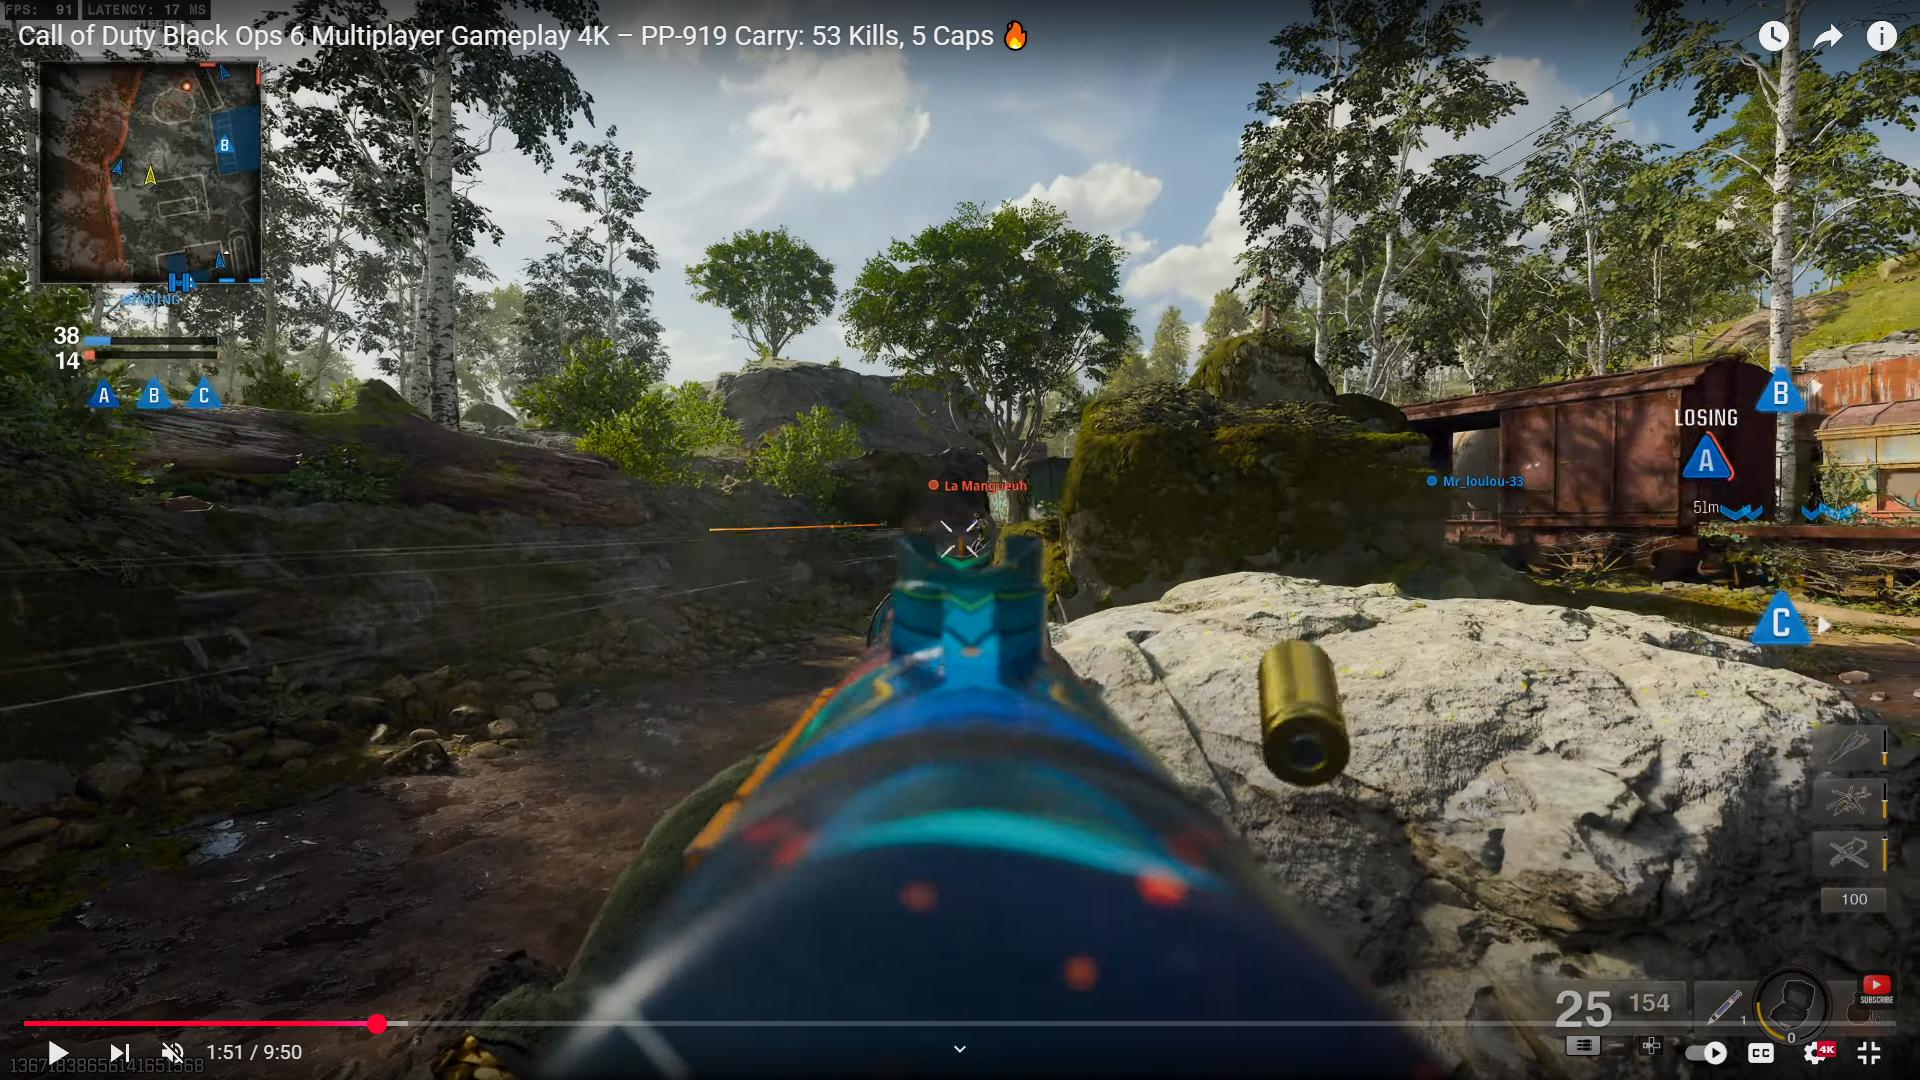Enemy: (934, 467, 1007, 545)
